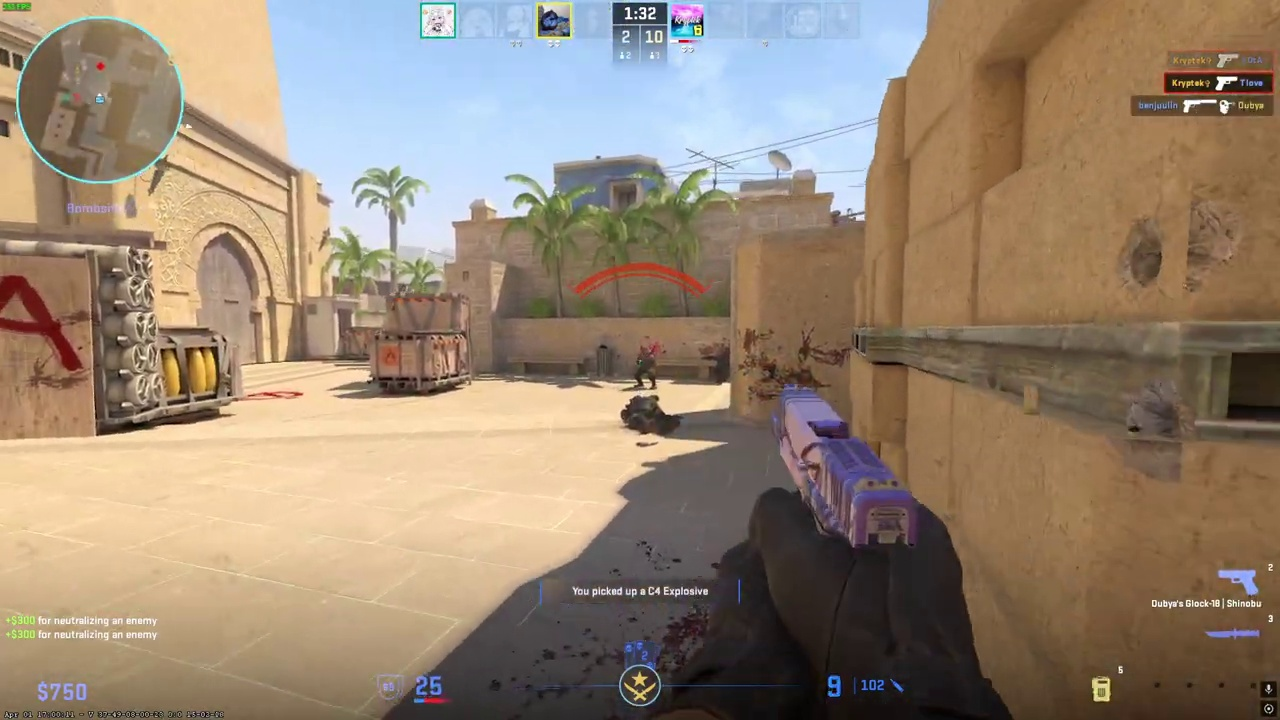CT: (634, 344, 656, 388)
